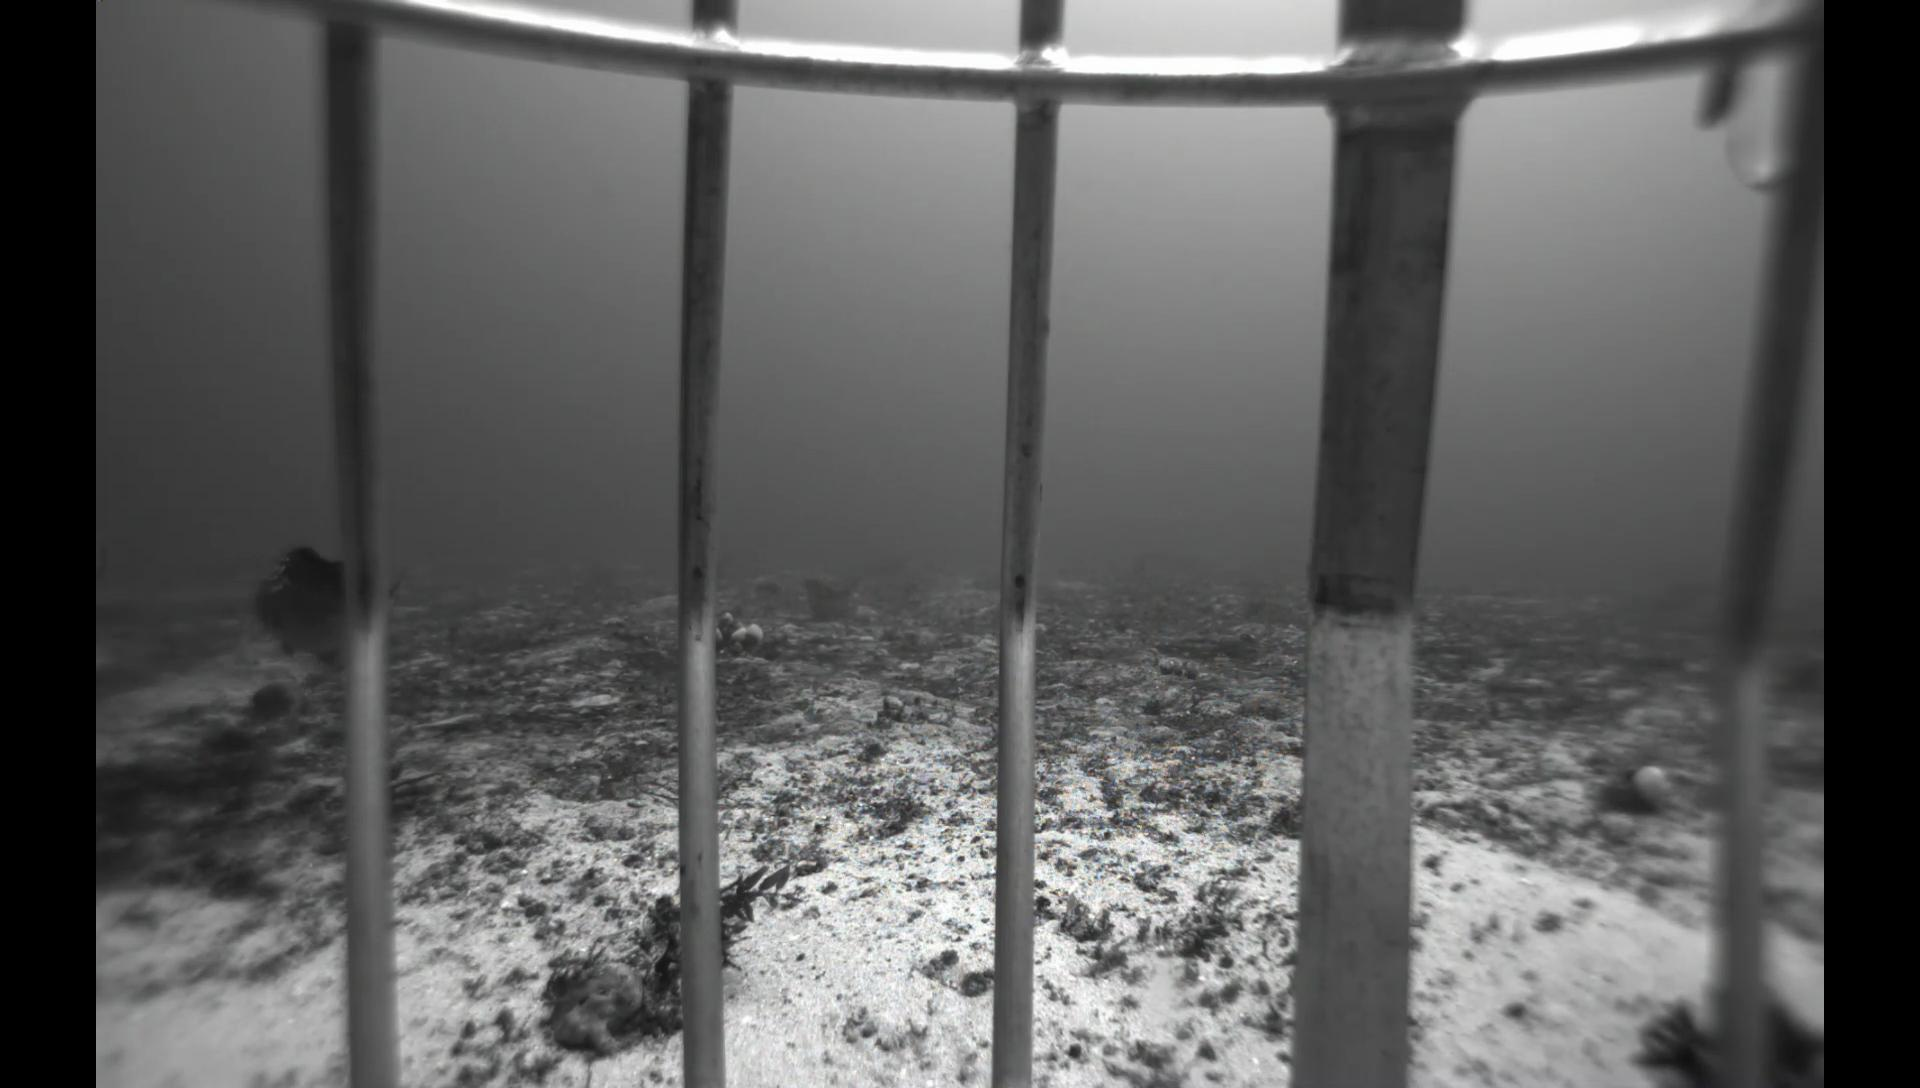CHAETODONOCELLATUS-170260307: (95, 541, 111, 587)
EPINEPHELUSMORIO-170021211: (251, 535, 421, 680)
PRISTIGENYSALTA-170050401: (237, 679, 315, 729)
